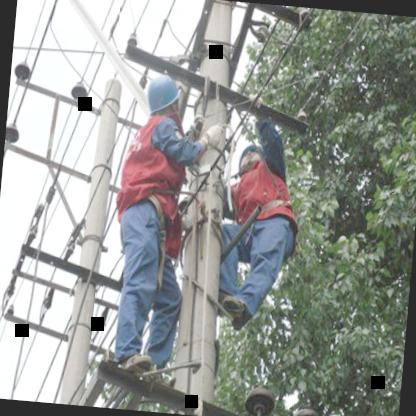helmet: (138, 70, 184, 124), (235, 136, 266, 177)
